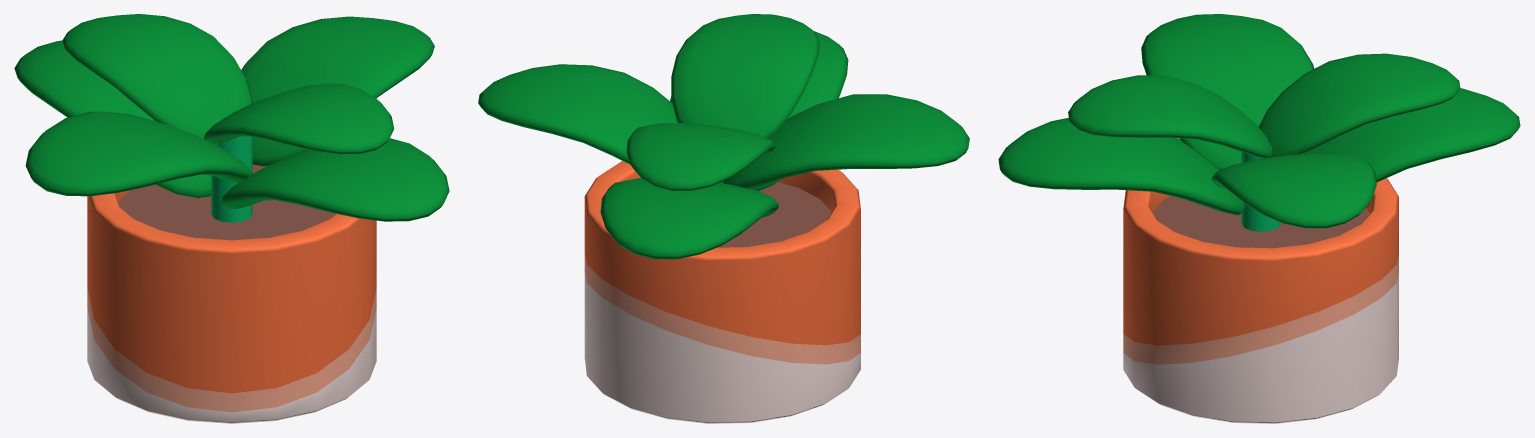
File: City_17_Plant_5.glb
The picture shows the model from 3 angles, left to right: view 1: azimuth 30°, elevation 25°; view 2: azimuth 150°, elevation 25°; view 3: azimuth 270°, elevation 25°; orthographic projection. The views are drawn at different scales.
Visible parts, largest first — view 1: City_17_Plant_5; view 2: City_17_Plant_5; view 3: City_17_Plant_5.
Part boxes in pixels (box(x1,y1,x2,y2)): City_17_Plant_5: box(14, 14, 449, 423); City_17_Plant_5: box(478, 14, 969, 423); City_17_Plant_5: box(998, 14, 1520, 423).
Size of the model in its own units: 1.32 by 0.847 by 1.41.
Materials: 1 (1 with a texture image).
